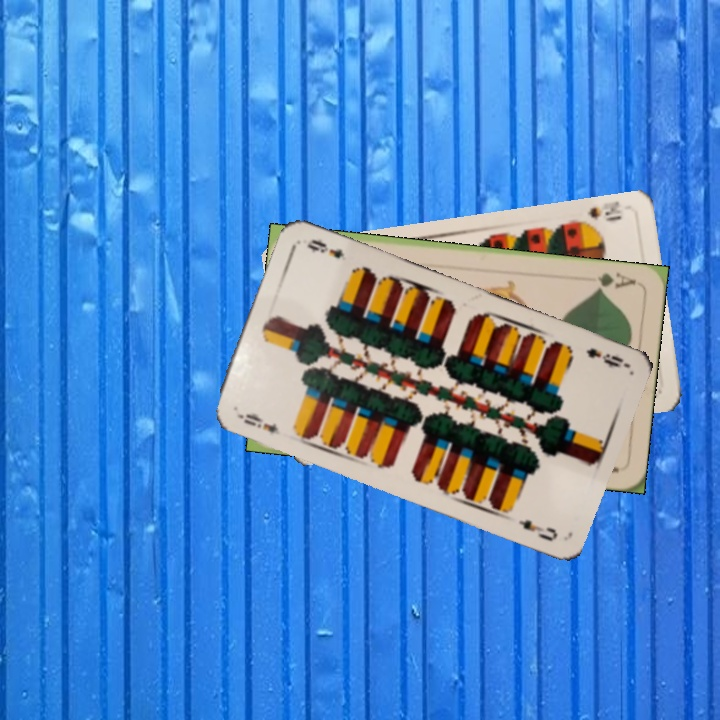E9: (233, 409, 283, 438), (582, 343, 628, 370)
GA: (592, 268, 639, 294)
S10: (572, 197, 624, 229)
